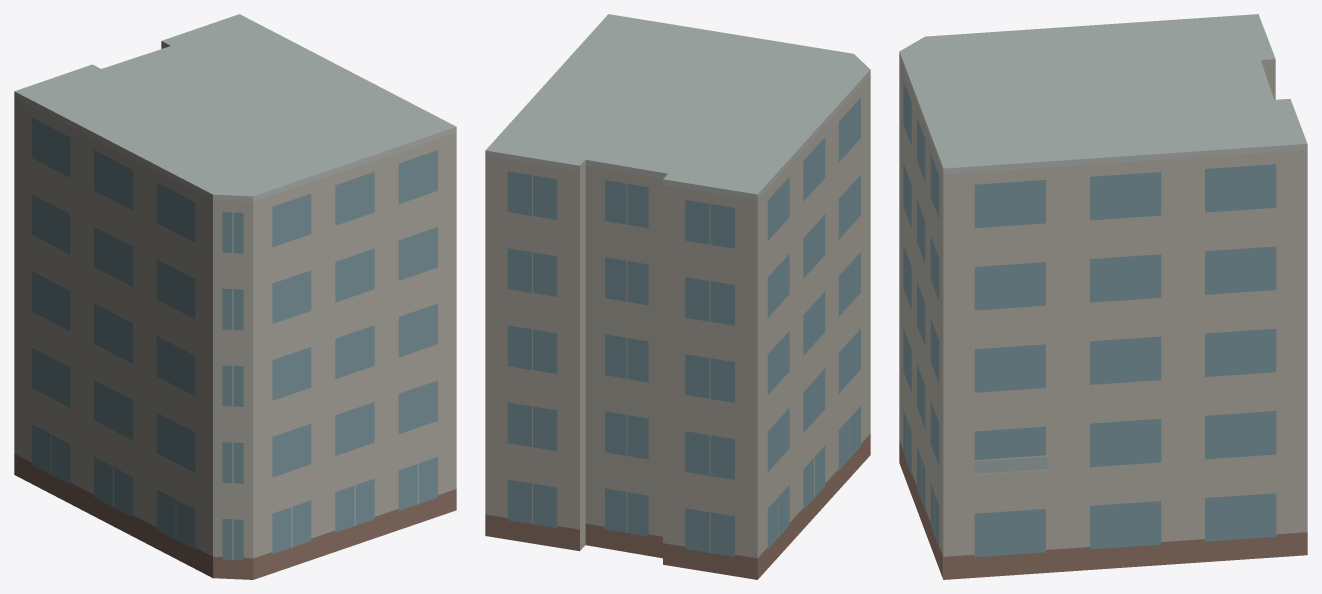
Rendered from survey-upis-32561431.glb.
3 views of the same model, side by side, from view 1: azimuth 30°, elevation 25°; view 2: azimuth 150°, elevation 25°; view 3: azimuth 270°, elevation 25° (orthographic). The views are drawn at different scales.
Parts seen in each view (by area): view 1: survey-upis-32561431.tmp; view 2: survey-upis-32561431.tmp; view 3: survey-upis-32561431.tmp.
Part boxes in pixels (x1,y1,x2,y2): survey-upis-32561431.tmp: [14, 14, 456, 579]; survey-upis-32561431.tmp: [485, 14, 870, 579]; survey-upis-32561431.tmp: [899, 14, 1307, 579].
Size of the model in its own units: 13.47 by 16.7 by 15.03.
